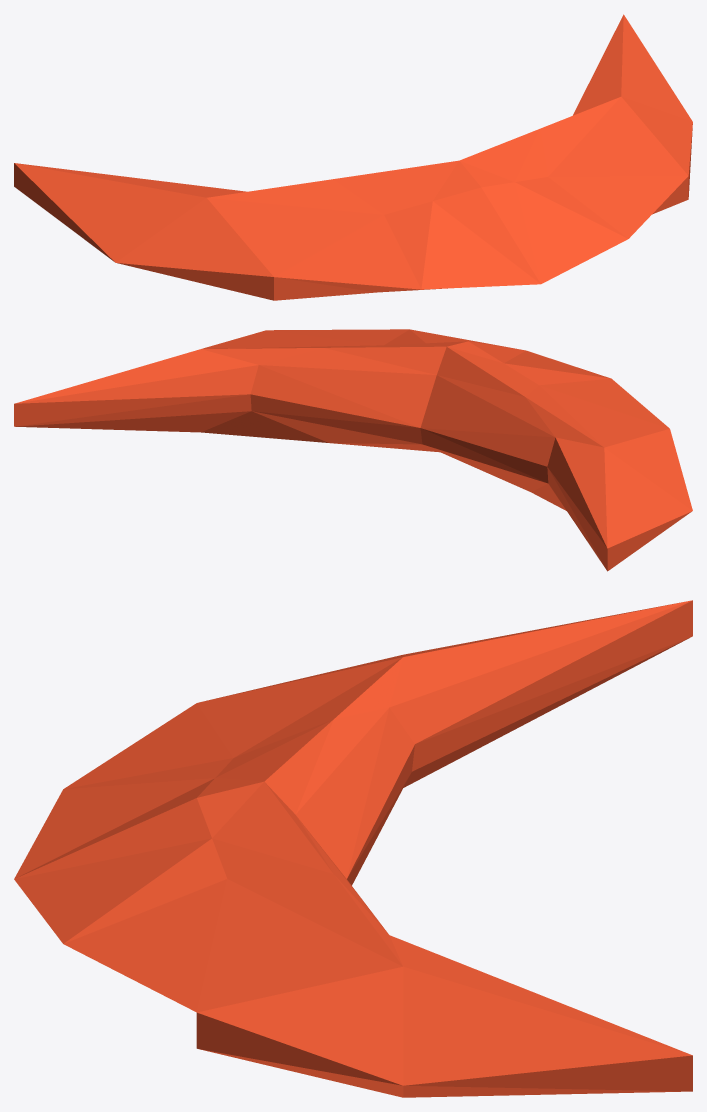
The model's file is SlashWave.obj.
3 renders of one model, top to bottom at view 1: azimuth 30°, elevation 25°; view 2: azimuth 150°, elevation 25°; view 3: azimuth 270°, elevation 25°, orthographic. The views are drawn at different scales.
Parts seen in each view (by area): view 1: Cube; view 2: Cube; view 3: Cube.
Boxes of the visible parts, left/top/right/bottom form: Cube: left=14, top=14, right=692, bottom=300; Cube: left=14, top=329, right=692, bottom=571; Cube: left=14, top=600, right=692, bottom=1097.
Size of the model in its own units: 2.3 by 0.4268 by 1.45.
